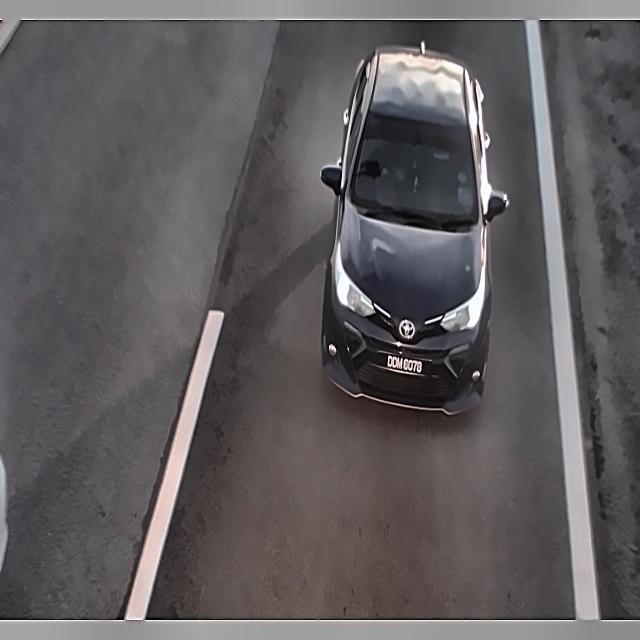car: (379, 347, 433, 380)
